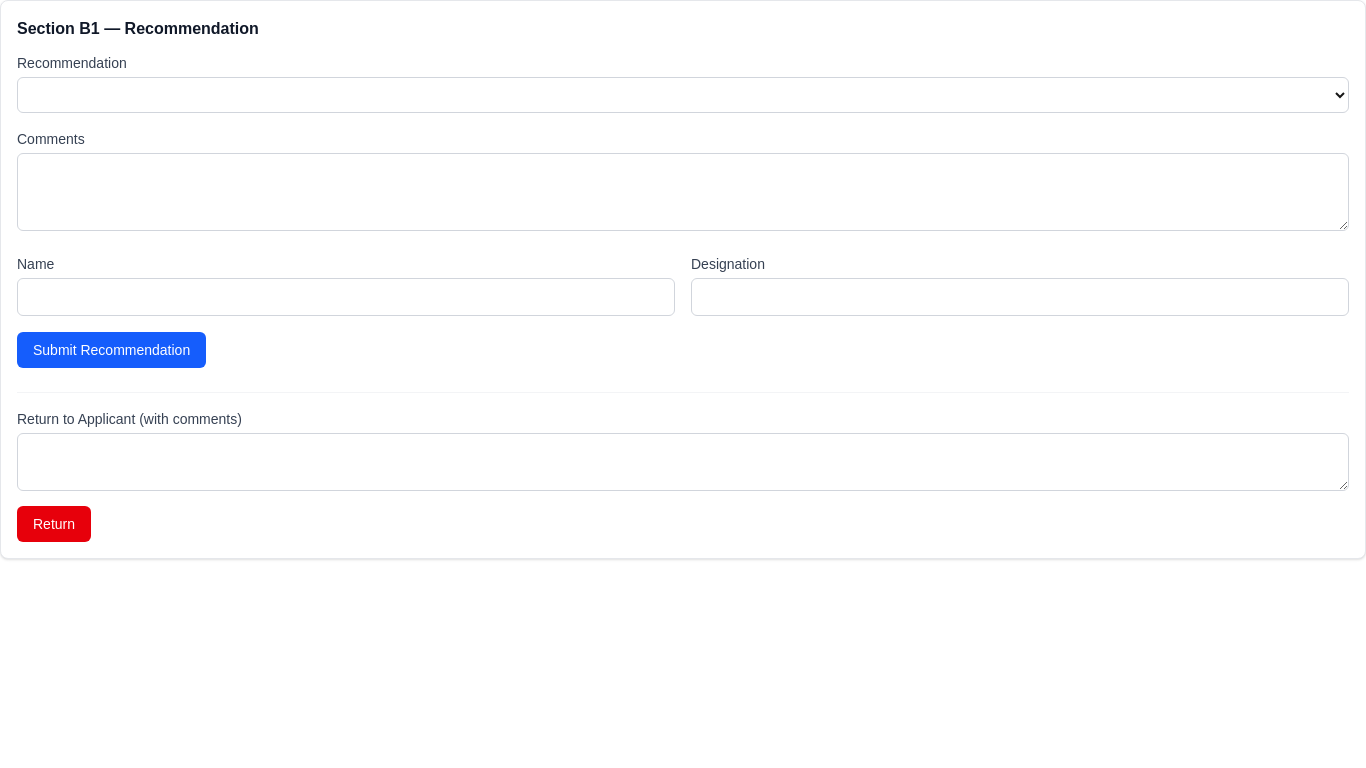
Test case: HodRecommendationForm › requires comments when 'Do not recommend' is selected, and blocks submission
Select "Do not recommend" in the dropdown labelled "Recommendation". click: [683, 95]
box: [17,77,1349,113]
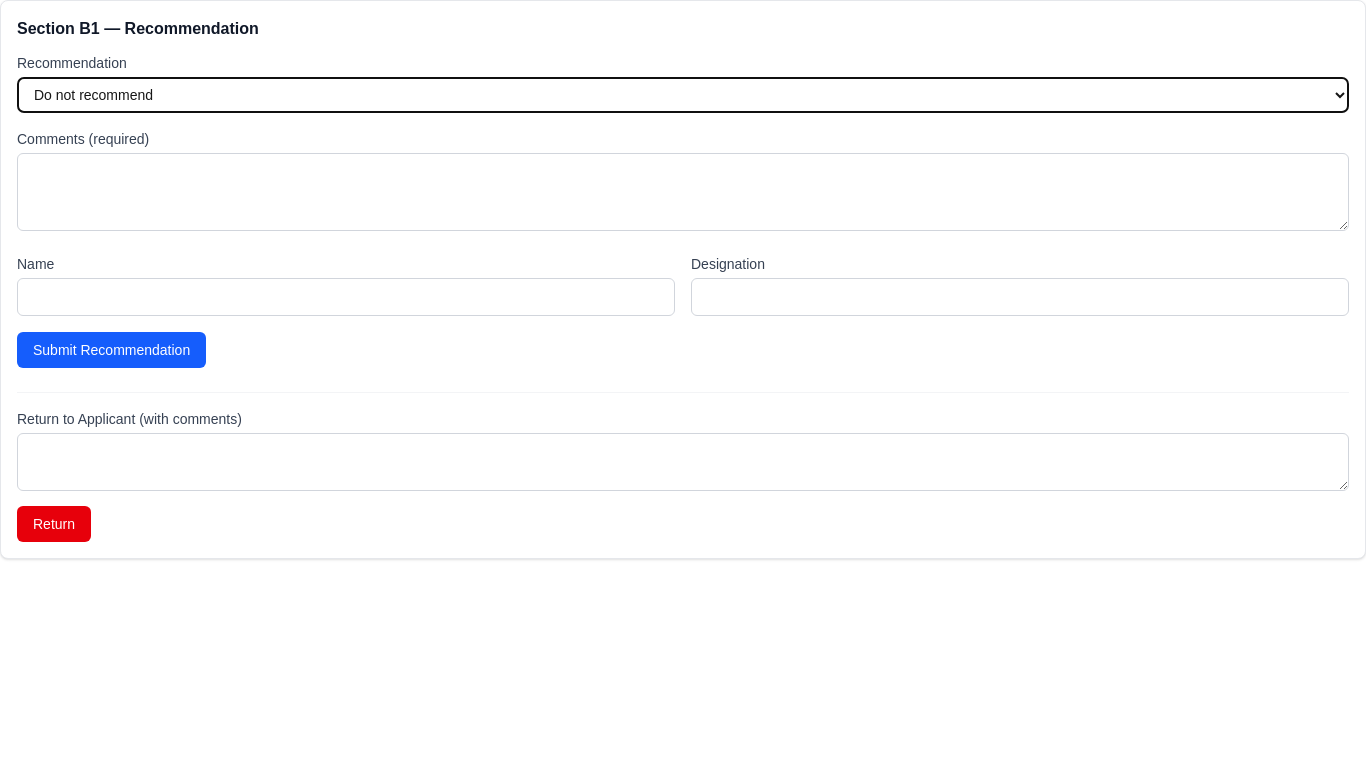
Type "Jane Manager" into the field labelled "Name". click: [346, 297]
box: [17,278,675,316]
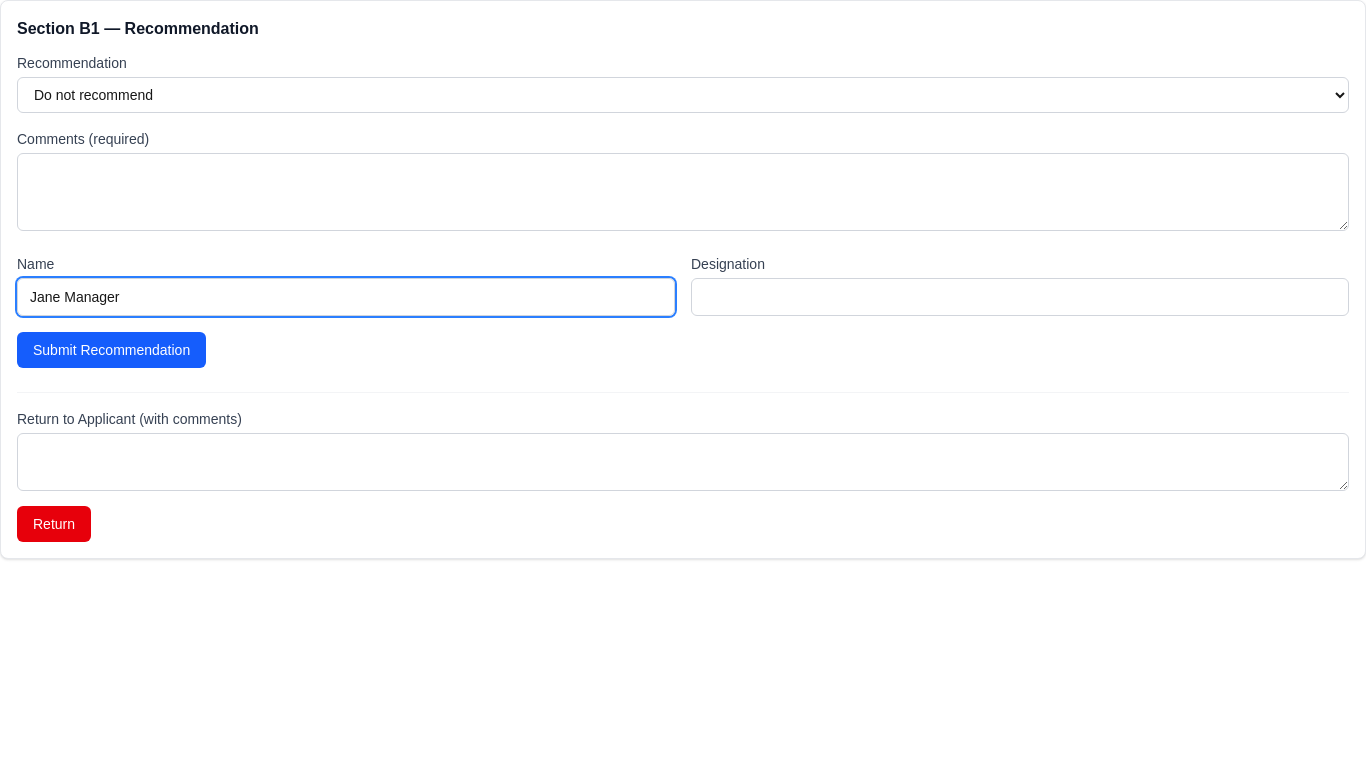
Type "HOD" into the field labelled "Designation". click: [1020, 297]
box: [691,278,1349,316]
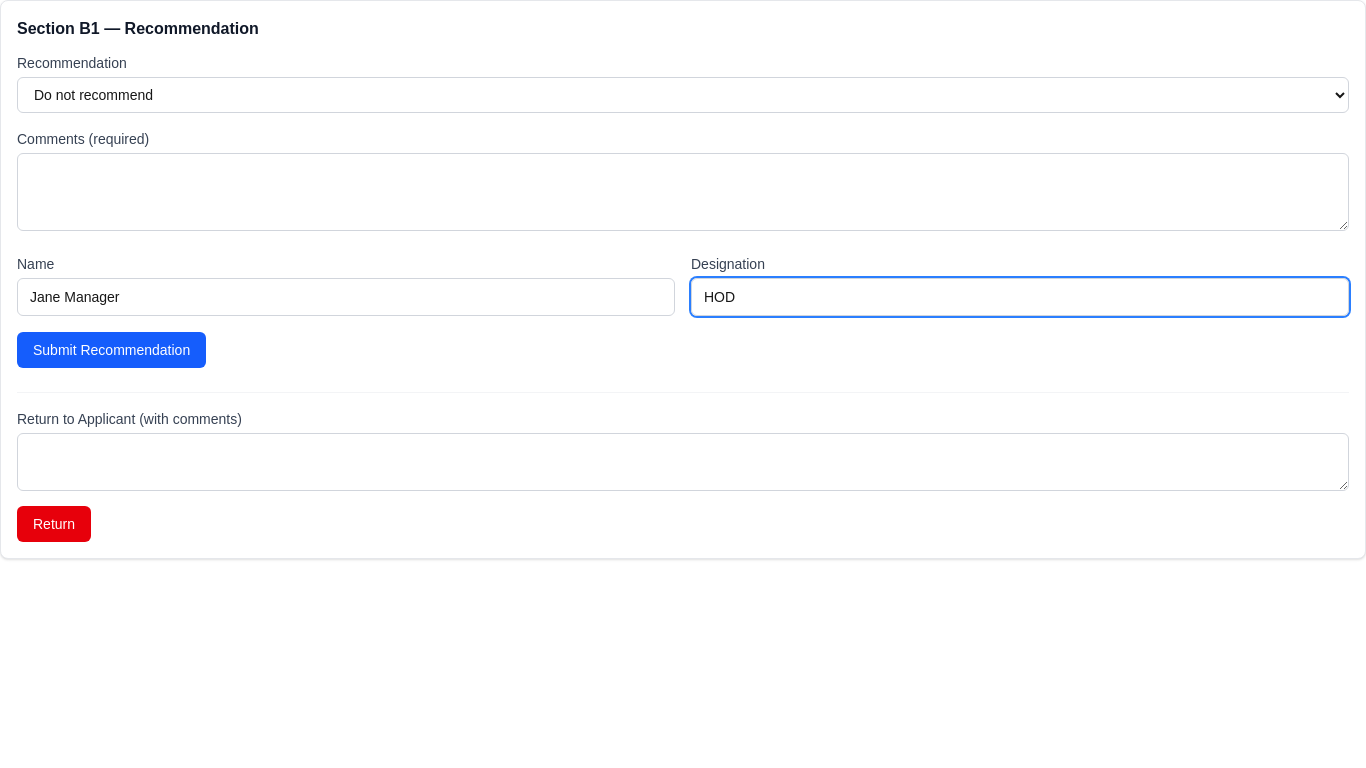
Click the button "Submit Recommendation". click: [112, 350]
box: [17,332,206,368]
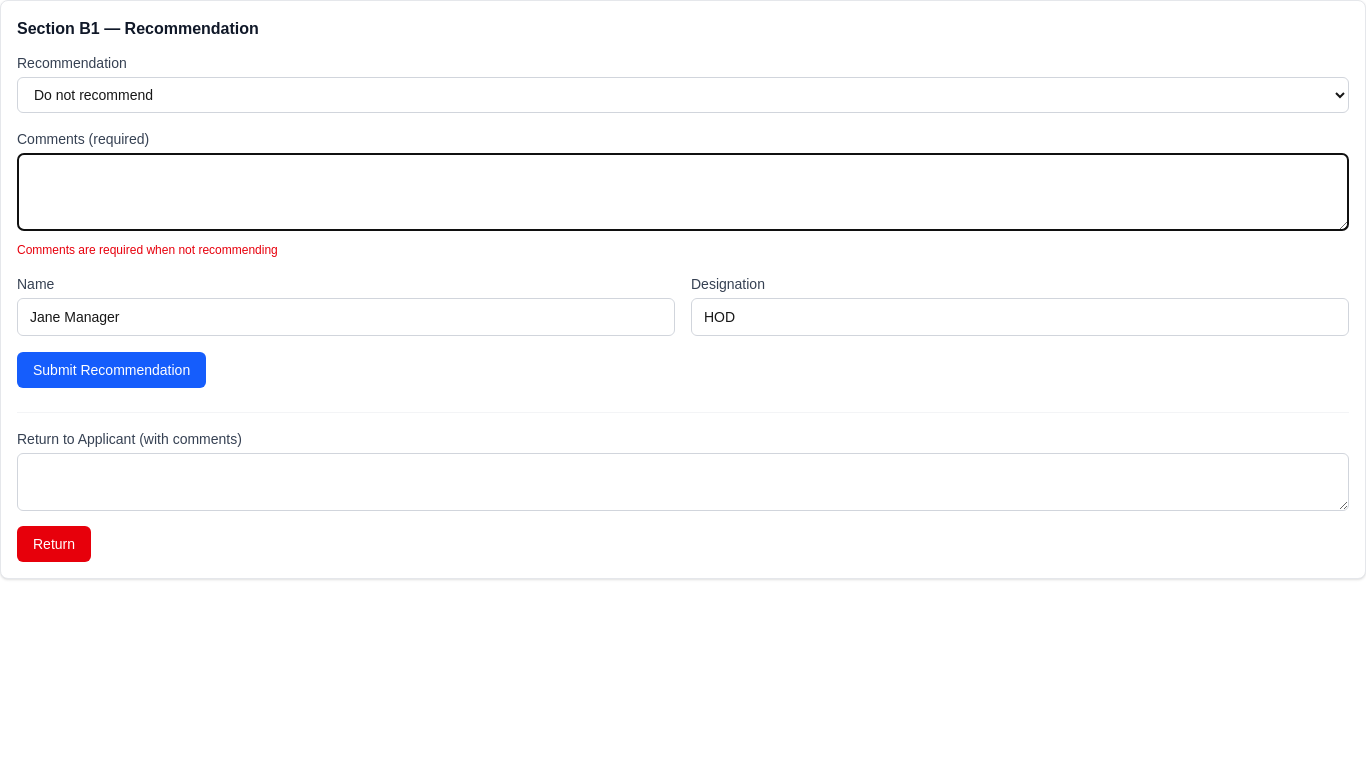
Now the text "Comments are required when not recommending" is shown, box [17,243,278,257]
